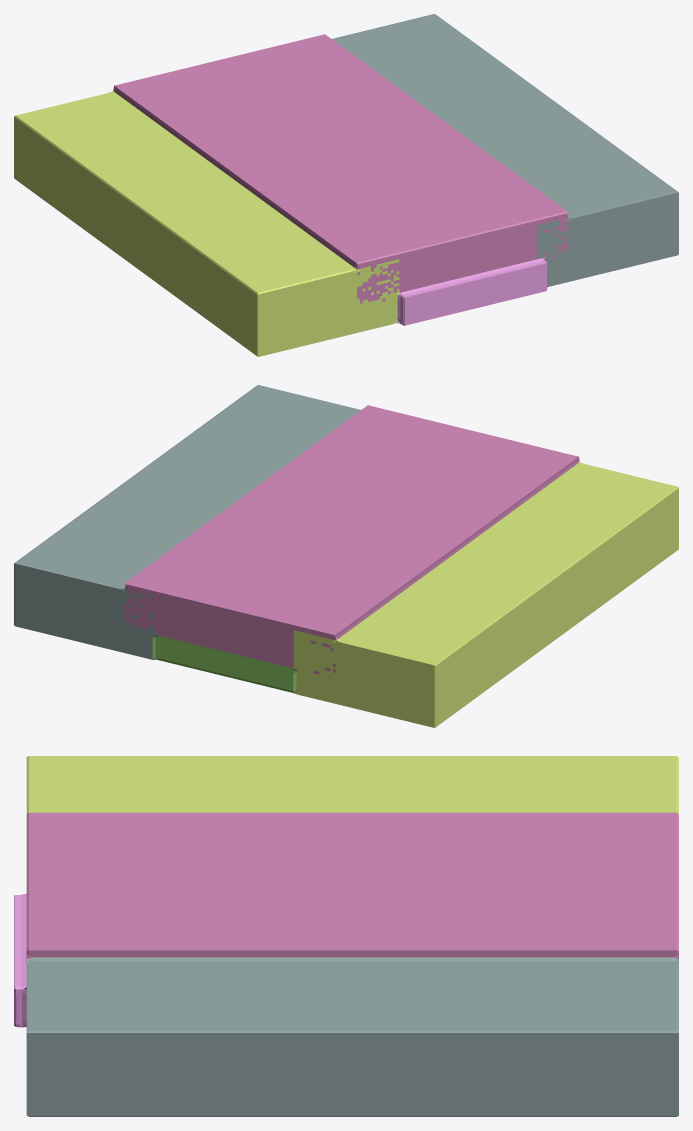
The model's file is nav_mesh_create04.glb.
The picture shows the model from 3 angles, top to bottom: view 1: azimuth 30°, elevation 25°; view 2: azimuth 150°, elevation 25°; view 3: azimuth 270°, elevation 25°; orthographic projection. The views are drawn at different scales.
Visible parts, largest first — view 1: Mesh_0; view 2: Mesh_0; view 3: Mesh_0.
Boxes of the visible parts, x1=… form: Mesh_0: x1=14, y1=14, x2=678, y2=356; Mesh_0: x1=14, y1=385, x2=678, y2=727; Mesh_0: x1=14, y1=756, x2=678, y2=1116.
Bounding box in the file's own units: 150 × 24.08 × 153.
